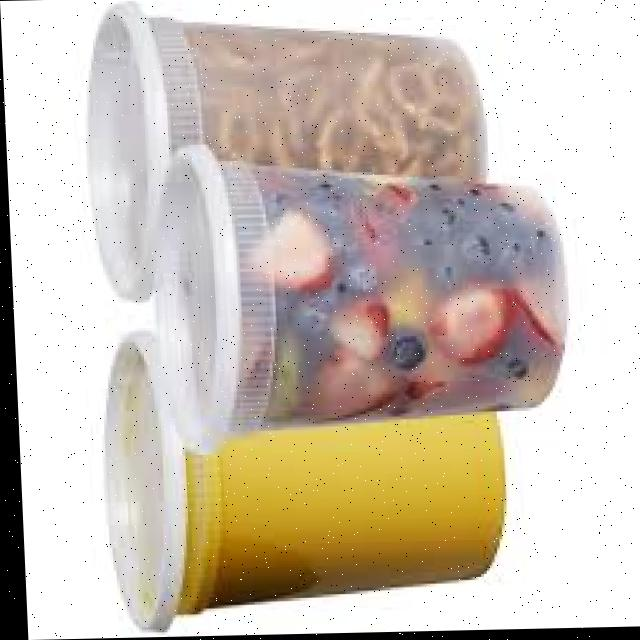disposable: (124, 96, 575, 487)
